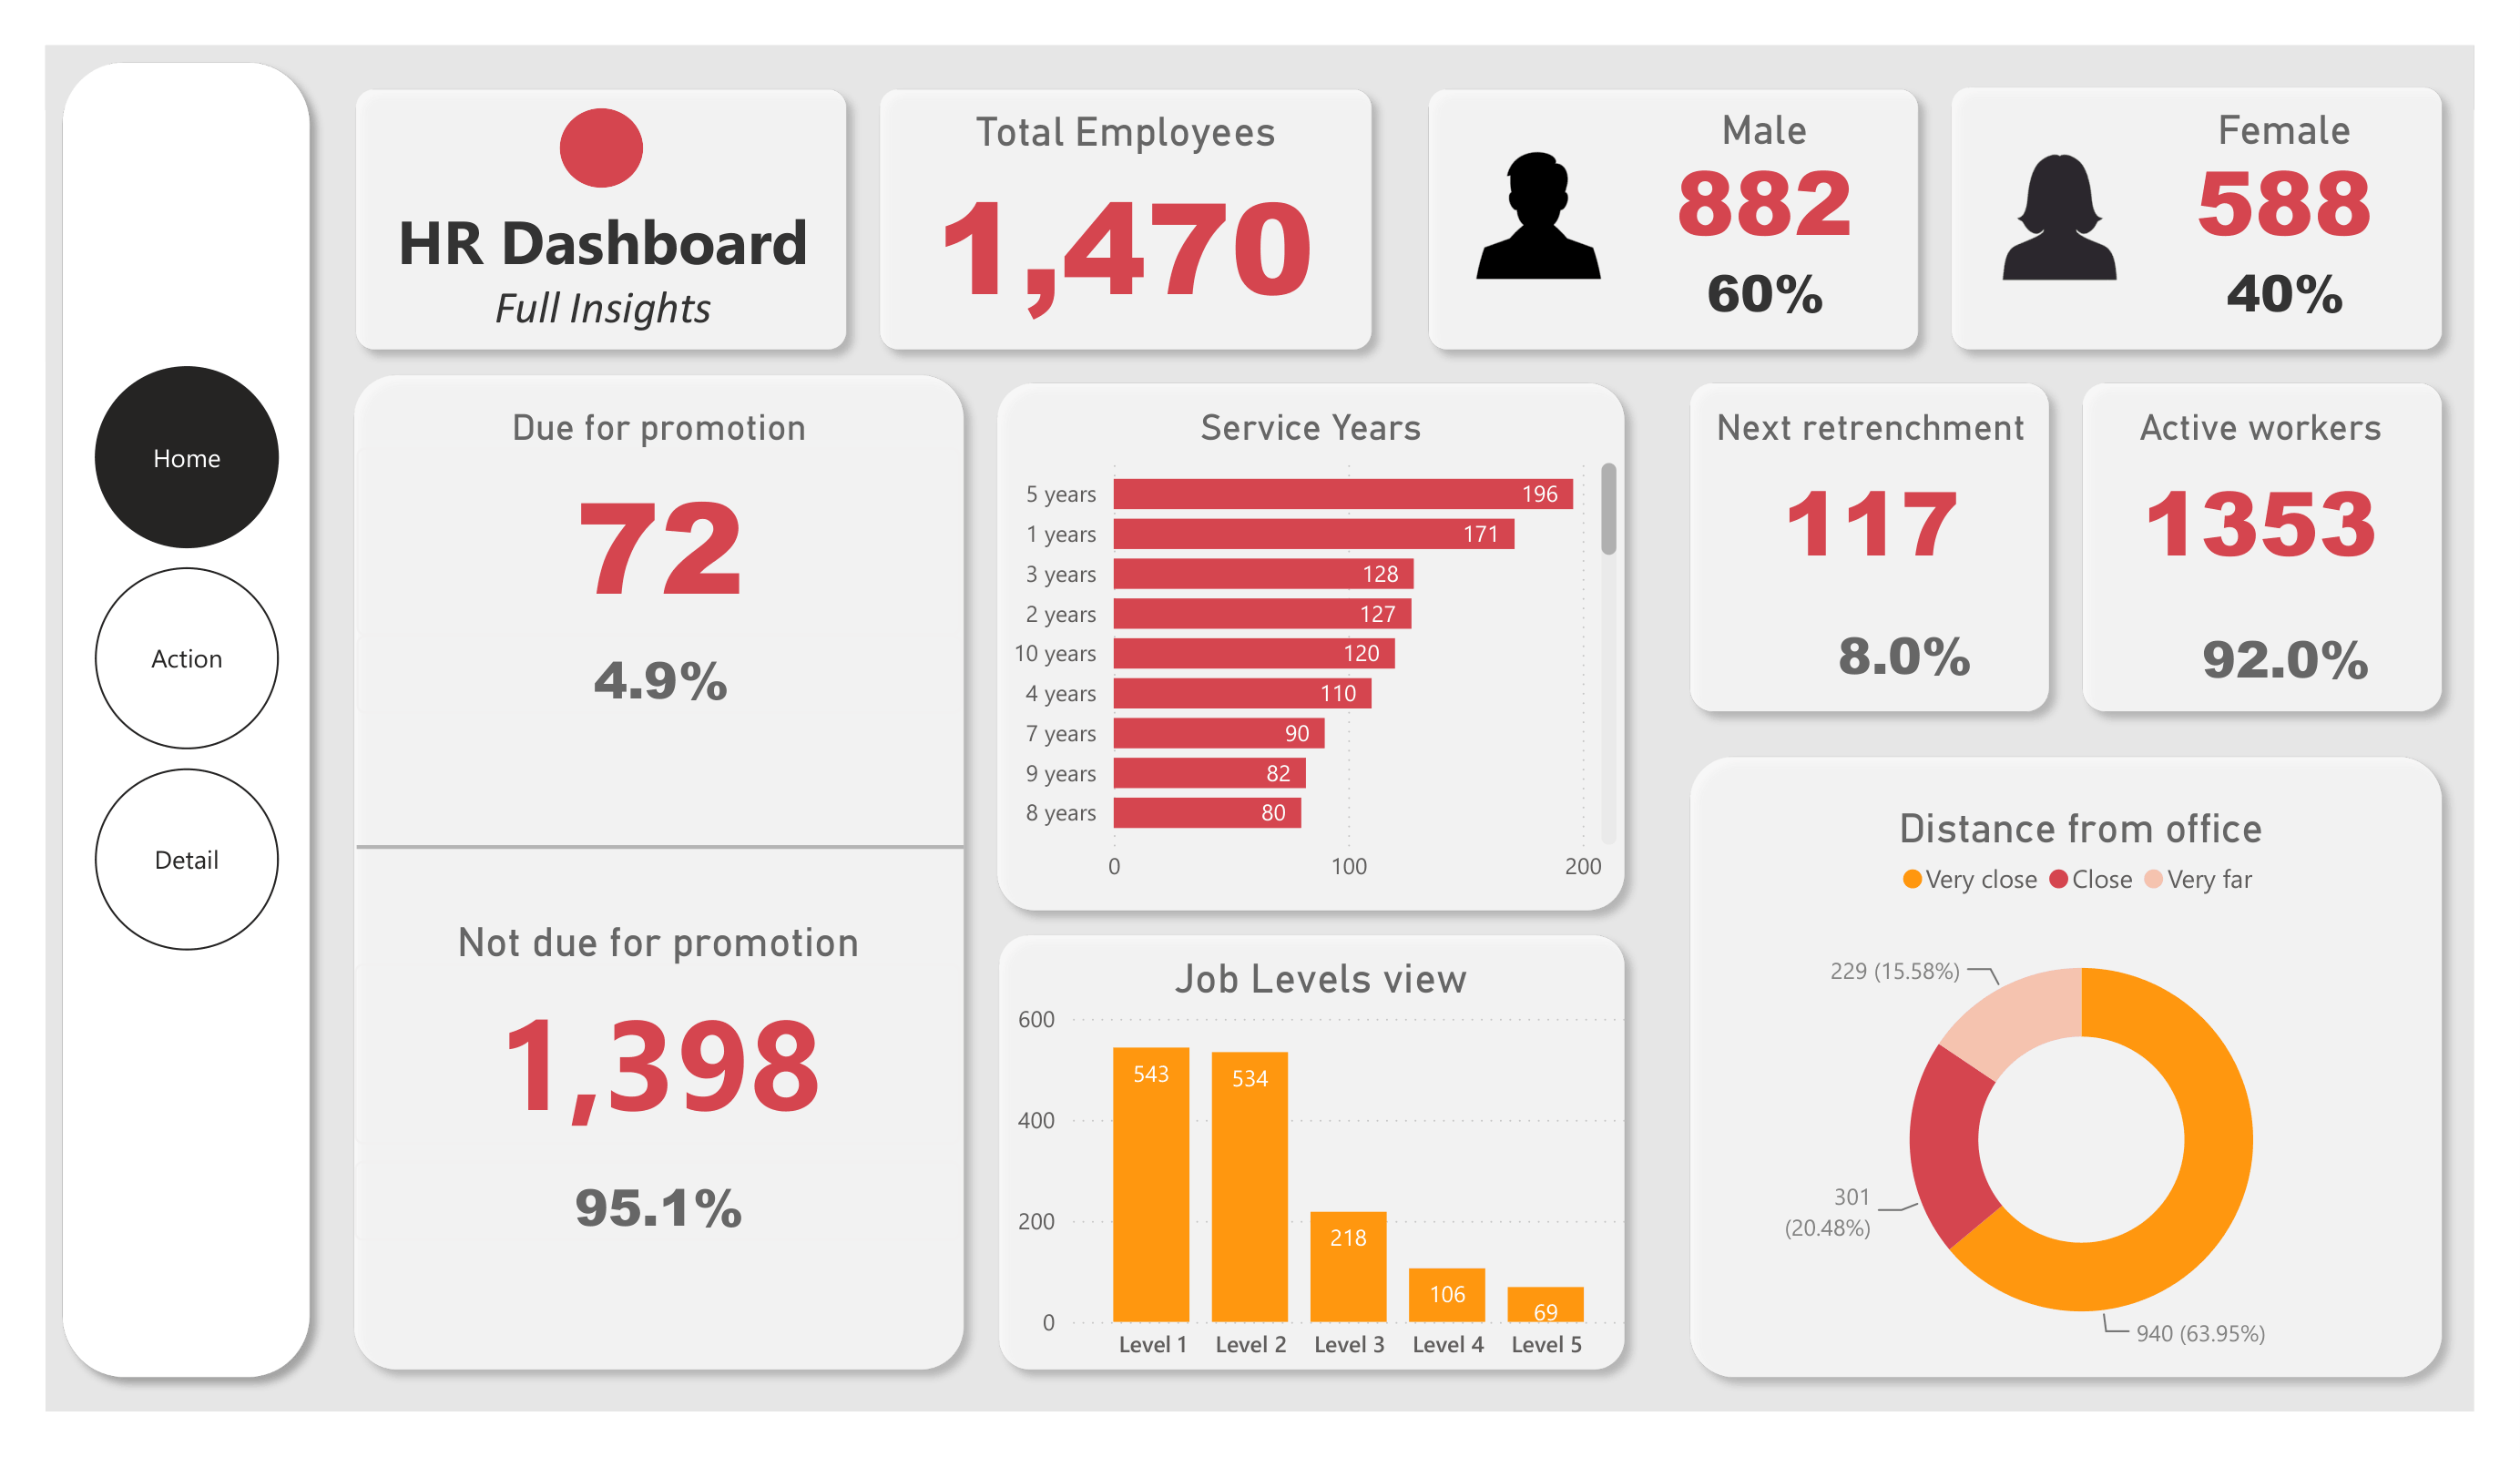

The dashboard page shown, as its layout file describes it:
{"tool":"powerbi","page":{"name":"Home","canvas":[1280,720],"ordinal":0},"visuals":[{"type":"shape","box":[0,0,147.5,711.2],"z":0},{"type":"shape","box":[155,13.8,276.2,155],"z":1000},{"type":"shape","box":[431.2,13.8,276.2,155],"z":2000},{"type":"shape","box":[720,13.8,276.2,155],"z":3000},{"type":"shape","box":[995.9,13.1,276.1,155.6],"z":4000},{"type":"shape","box":[154.5,165.4,338.5,541.2],"z":5000},{"type":"shape","box":[493,168.7,348.4,295.8],"z":6000},{"type":"shape","box":[494.1,460.2,347.3,246.5],"z":7000},{"type":"shape","box":[857.9,168.7,207.1,191.7],"z":8000},{"type":"shape","box":[1064.9,168.7,207.1,191.7],"z":9000},{"type":"shape","box":[857.9,365.9,414.1,345.1],"z":10000},{"type":"textbox","box":[163.8,75,260,57.5],"z":11000},{"type":"textbox","box":[163.8,117.5,260,51.2],"z":12000},{"type":"shape","box":[271.2,32.5,43.8,42.5],"z":13000},{"type":"cardVisual","title":"Total Employees","fields":{"Data":["All Measures.Total Emp"]},"box":[451.2,32.5,236.2,118.8],"z":14000},{"type":"cardVisual","title":"Male","fields":{"Data":["All Measures.Male"]},"box":[832.7,31.8,146.8,72.3],"z":15000},{"type":"cardVisual","title":"Male","fields":{"Data":["All Measures.% male"]},"box":[857.9,104.1,97.5,43.8],"z":16000},{"type":"cardVisual","title":"Female","fields":{"Data":["All Measures.Female"]},"box":[1106.6,31.8,146.8,72.3],"z":17000},{"type":"cardVisual","title":"Male","fields":{"Data":["All Measures.% female"]},"box":[1131.8,104.1,97.5,43.8],"z":18000},{"type":"image","box":[719.8,31.8,133.7,116.1],"z":19000},{"type":"image","box":[990.4,27.4,141.3,127.1],"z":20000},{"type":"cardVisual","title":"Due for promotion","fields":{"Data":["All Measures.Due for promotion"]},"box":[164.3,189.5,318.8,121.6],"z":21000},{"type":"cardVisual","title":"Not Due","fields":{"Data":["All Measures.% Due for promotion"]},"box":[164.3,311.2,319.9,41.6],"z":22000},{"type":"shape","box":[163.8,418.4,319.9,9],"z":23000},{"type":"barChart","title":"Service Years","fields":{"Category":["HR Analytics Data.Service year"],"Y":["All Measures.Total Emp"]},"box":[506.2,189.5,322.1,256.4],"z":24000},{"type":"columnChart","title":"Job Levels view","fields":{"Category":["HR Analytics Data.Job Levels"],"Y":["All Measures.Total Emp"]},"box":[511.7,478.8,321,220.2],"z":25000},{"type":"cardVisual","title":"Active workers","fields":{"Data":["All Measures.On service"]},"box":[1082.5,189.5,170.9,98.6],"z":26000},{"type":"cardVisual","title":"Male","fields":{"Data":["All Measures.% On service"]},"box":[1118.6,299.1,124.9,39.4],"z":27000},{"type":"cardVisual","title":"Not due for promotion","fields":{"Data":["All Measures.Not due"]},"box":[163.2,460.2,319.9,119.4],"z":28000},{"type":"cardVisual","title":"Not Due","fields":{"Data":["All Measures.% Not due"]},"box":[163.2,588.4,319.9,42.7],"z":29000},{"type":"cardVisual","title":"Next retrenchment","fields":{"Data":["All Measures.Lay off"]},"box":[867.7,189.5,188.4,98.6],"z":30000},{"type":"cardVisual","title":"Male","fields":{"Data":["All Measures.% Lay off"]},"box":[924.7,294.7,110.7,43.8],"z":31000},{"type":"donutChart","title":"Distance from office","fields":{"Category":["HR Analytics Data.Distance status"],"Y":["All Measures.Total Emp"]},"box":[892.9,399.9,360.5,299.1],"z":32000},{"type":"pageNavigator","box":[25.6,168.9,97.3,309.7],"z":33000}]}

Visuals, with their boxes on the page's 1280x720 design canvas (x1, y1, x2, y2). These are canvas units, not pixel positions in the 2520x1457 screenshot, which may show the page scaled, cropped or inside an application window:
shape: select_region(0, 0, 148, 711)
shape: select_region(155, 14, 431, 169)
shape: select_region(431, 14, 707, 169)
shape: select_region(720, 14, 996, 169)
shape: select_region(996, 13, 1272, 169)
shape: select_region(154, 165, 493, 707)
shape: select_region(493, 169, 841, 464)
shape: select_region(494, 460, 841, 707)
shape: select_region(858, 169, 1065, 360)
shape: select_region(1065, 169, 1272, 360)
shape: select_region(858, 366, 1272, 711)
textbox: select_region(164, 75, 424, 132)
textbox: select_region(164, 118, 424, 169)
shape: select_region(271, 32, 315, 75)
"Total Employees" cardVisual: select_region(451, 32, 687, 151)
"Male" cardVisual: select_region(833, 32, 980, 104)
"Male" cardVisual: select_region(858, 104, 955, 148)
"Female" cardVisual: select_region(1107, 32, 1253, 104)
"Male" cardVisual: select_region(1132, 104, 1229, 148)
image: select_region(720, 32, 854, 148)
image: select_region(990, 27, 1132, 154)
"Due for promotion" cardVisual: select_region(164, 190, 483, 311)
"Not Due" cardVisual: select_region(164, 311, 484, 353)
shape: select_region(164, 418, 484, 427)
"Service Years" barChart: select_region(506, 190, 828, 446)
"Job Levels view" columnChart: select_region(512, 479, 833, 699)
"Active workers" cardVisual: select_region(1082, 190, 1253, 288)
"Male" cardVisual: select_region(1119, 299, 1244, 338)
"Not due for promotion" cardVisual: select_region(163, 460, 483, 580)
"Not Due" cardVisual: select_region(163, 588, 483, 631)
"Next retrenchment" cardVisual: select_region(868, 190, 1056, 288)
"Male" cardVisual: select_region(925, 295, 1035, 338)
"Distance from office" donutChart: select_region(893, 400, 1253, 699)
pageNavigator: select_region(26, 169, 123, 479)
